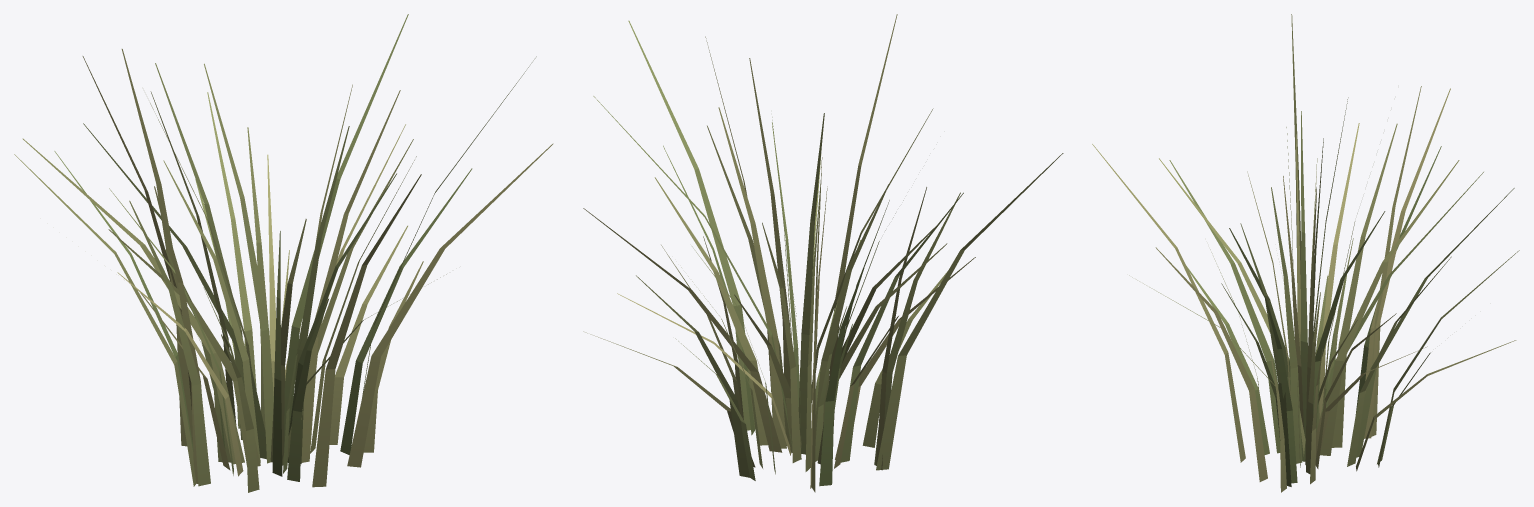
The model's file is grass_tuft_b.glb.
3 renders of one model, left to right at view 1: azimuth 30°, elevation 25°; view 2: azimuth 150°, elevation 25°; view 3: azimuth 270°, elevation 25°, orthographic. The views are drawn at different scales.
Parts seen in each view (by area): view 1: grass_tuft_b; view 2: grass_tuft_b; view 3: grass_tuft_b.
Boxes of the visible parts, x1=… form: grass_tuft_b: x1=14, y1=14, x2=553, y2=492; grass_tuft_b: x1=583, y1=14, x2=1063, y2=492; grass_tuft_b: x1=1092, y1=14, x2=1519, y2=492.
Size of the model in its own units: 1.05 by 0.7956 by 0.9068.
